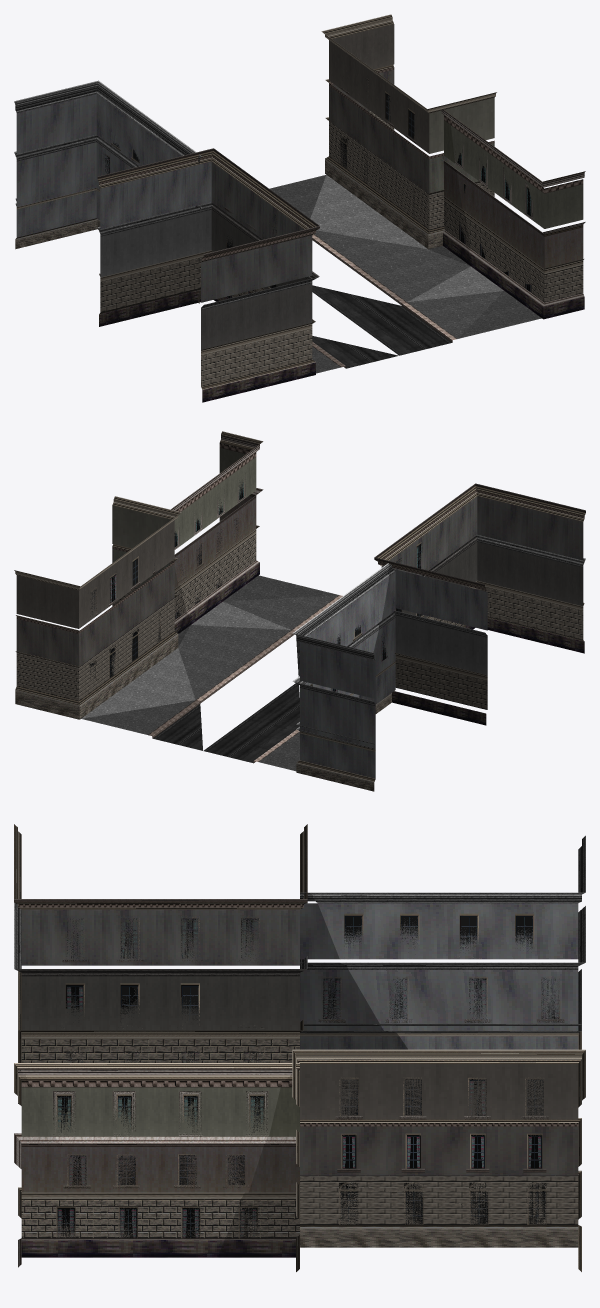
Rendered from primary_132.glb.
The picture shows the model from 3 angles, top to bottom: view 1: azimuth 30°, elevation 25°; view 2: azimuth 150°, elevation 25°; view 3: azimuth 270°, elevation 25°; orthographic projection. The views are drawn at different scales.
Visible parts, largest first — view 1: Object; view 2: Object; view 3: Object.
Boxes of the visible parts, <box> form: Object: <box>14,14,585,402</box>; Object: <box>14,431,585,791</box>; Object: <box>14,824,585,1271</box>.
Size of the model in its own units: 33.78 by 12.44 by 30.67.
253 materials, 253 textured.
